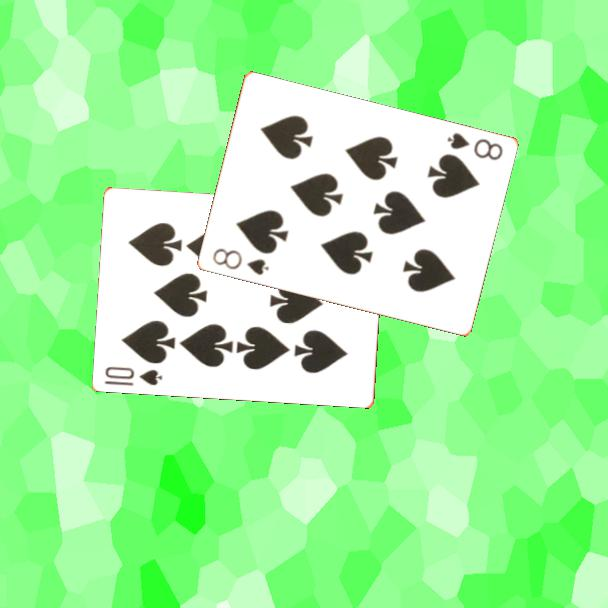s08: (443, 129, 505, 163), (209, 245, 272, 278)
s10: (101, 363, 165, 388)
